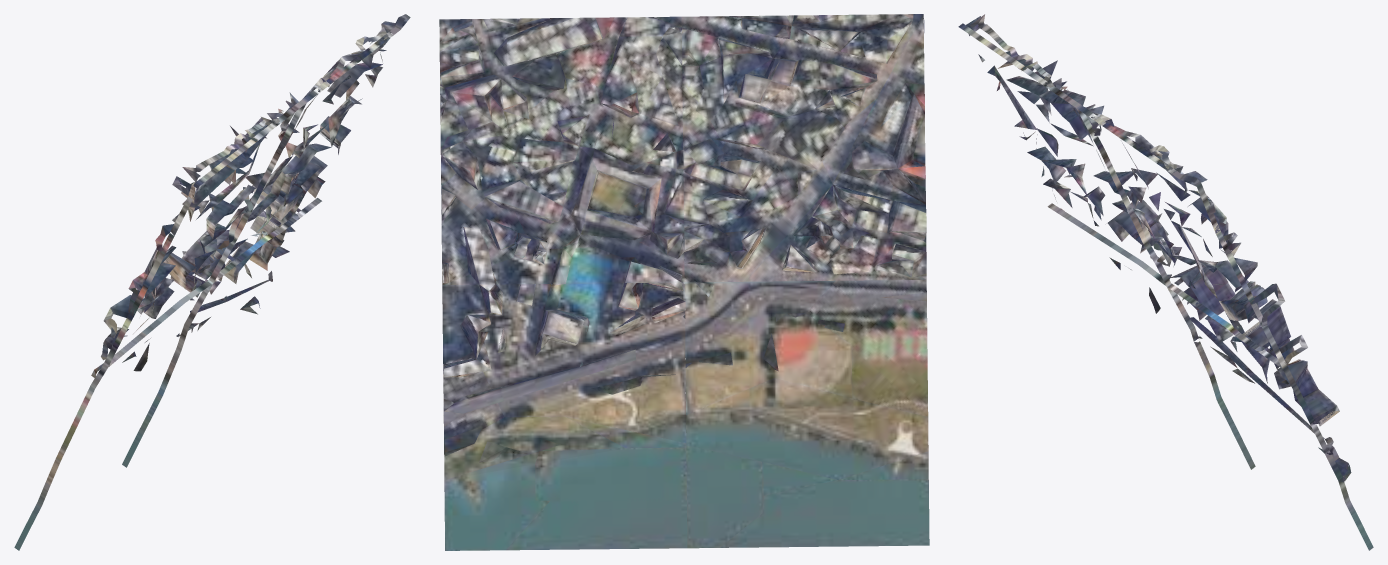
3 renders of one model, left to right at view 1: azimuth 30°, elevation 25°; view 2: azimuth 150°, elevation 25°; view 3: azimuth 270°, elevation 25°, orthographic. The views are drawn at different scales.
Size of the model in its own units: 607 by 568 by 512.
Materials: 2 (2 with a texture image).
